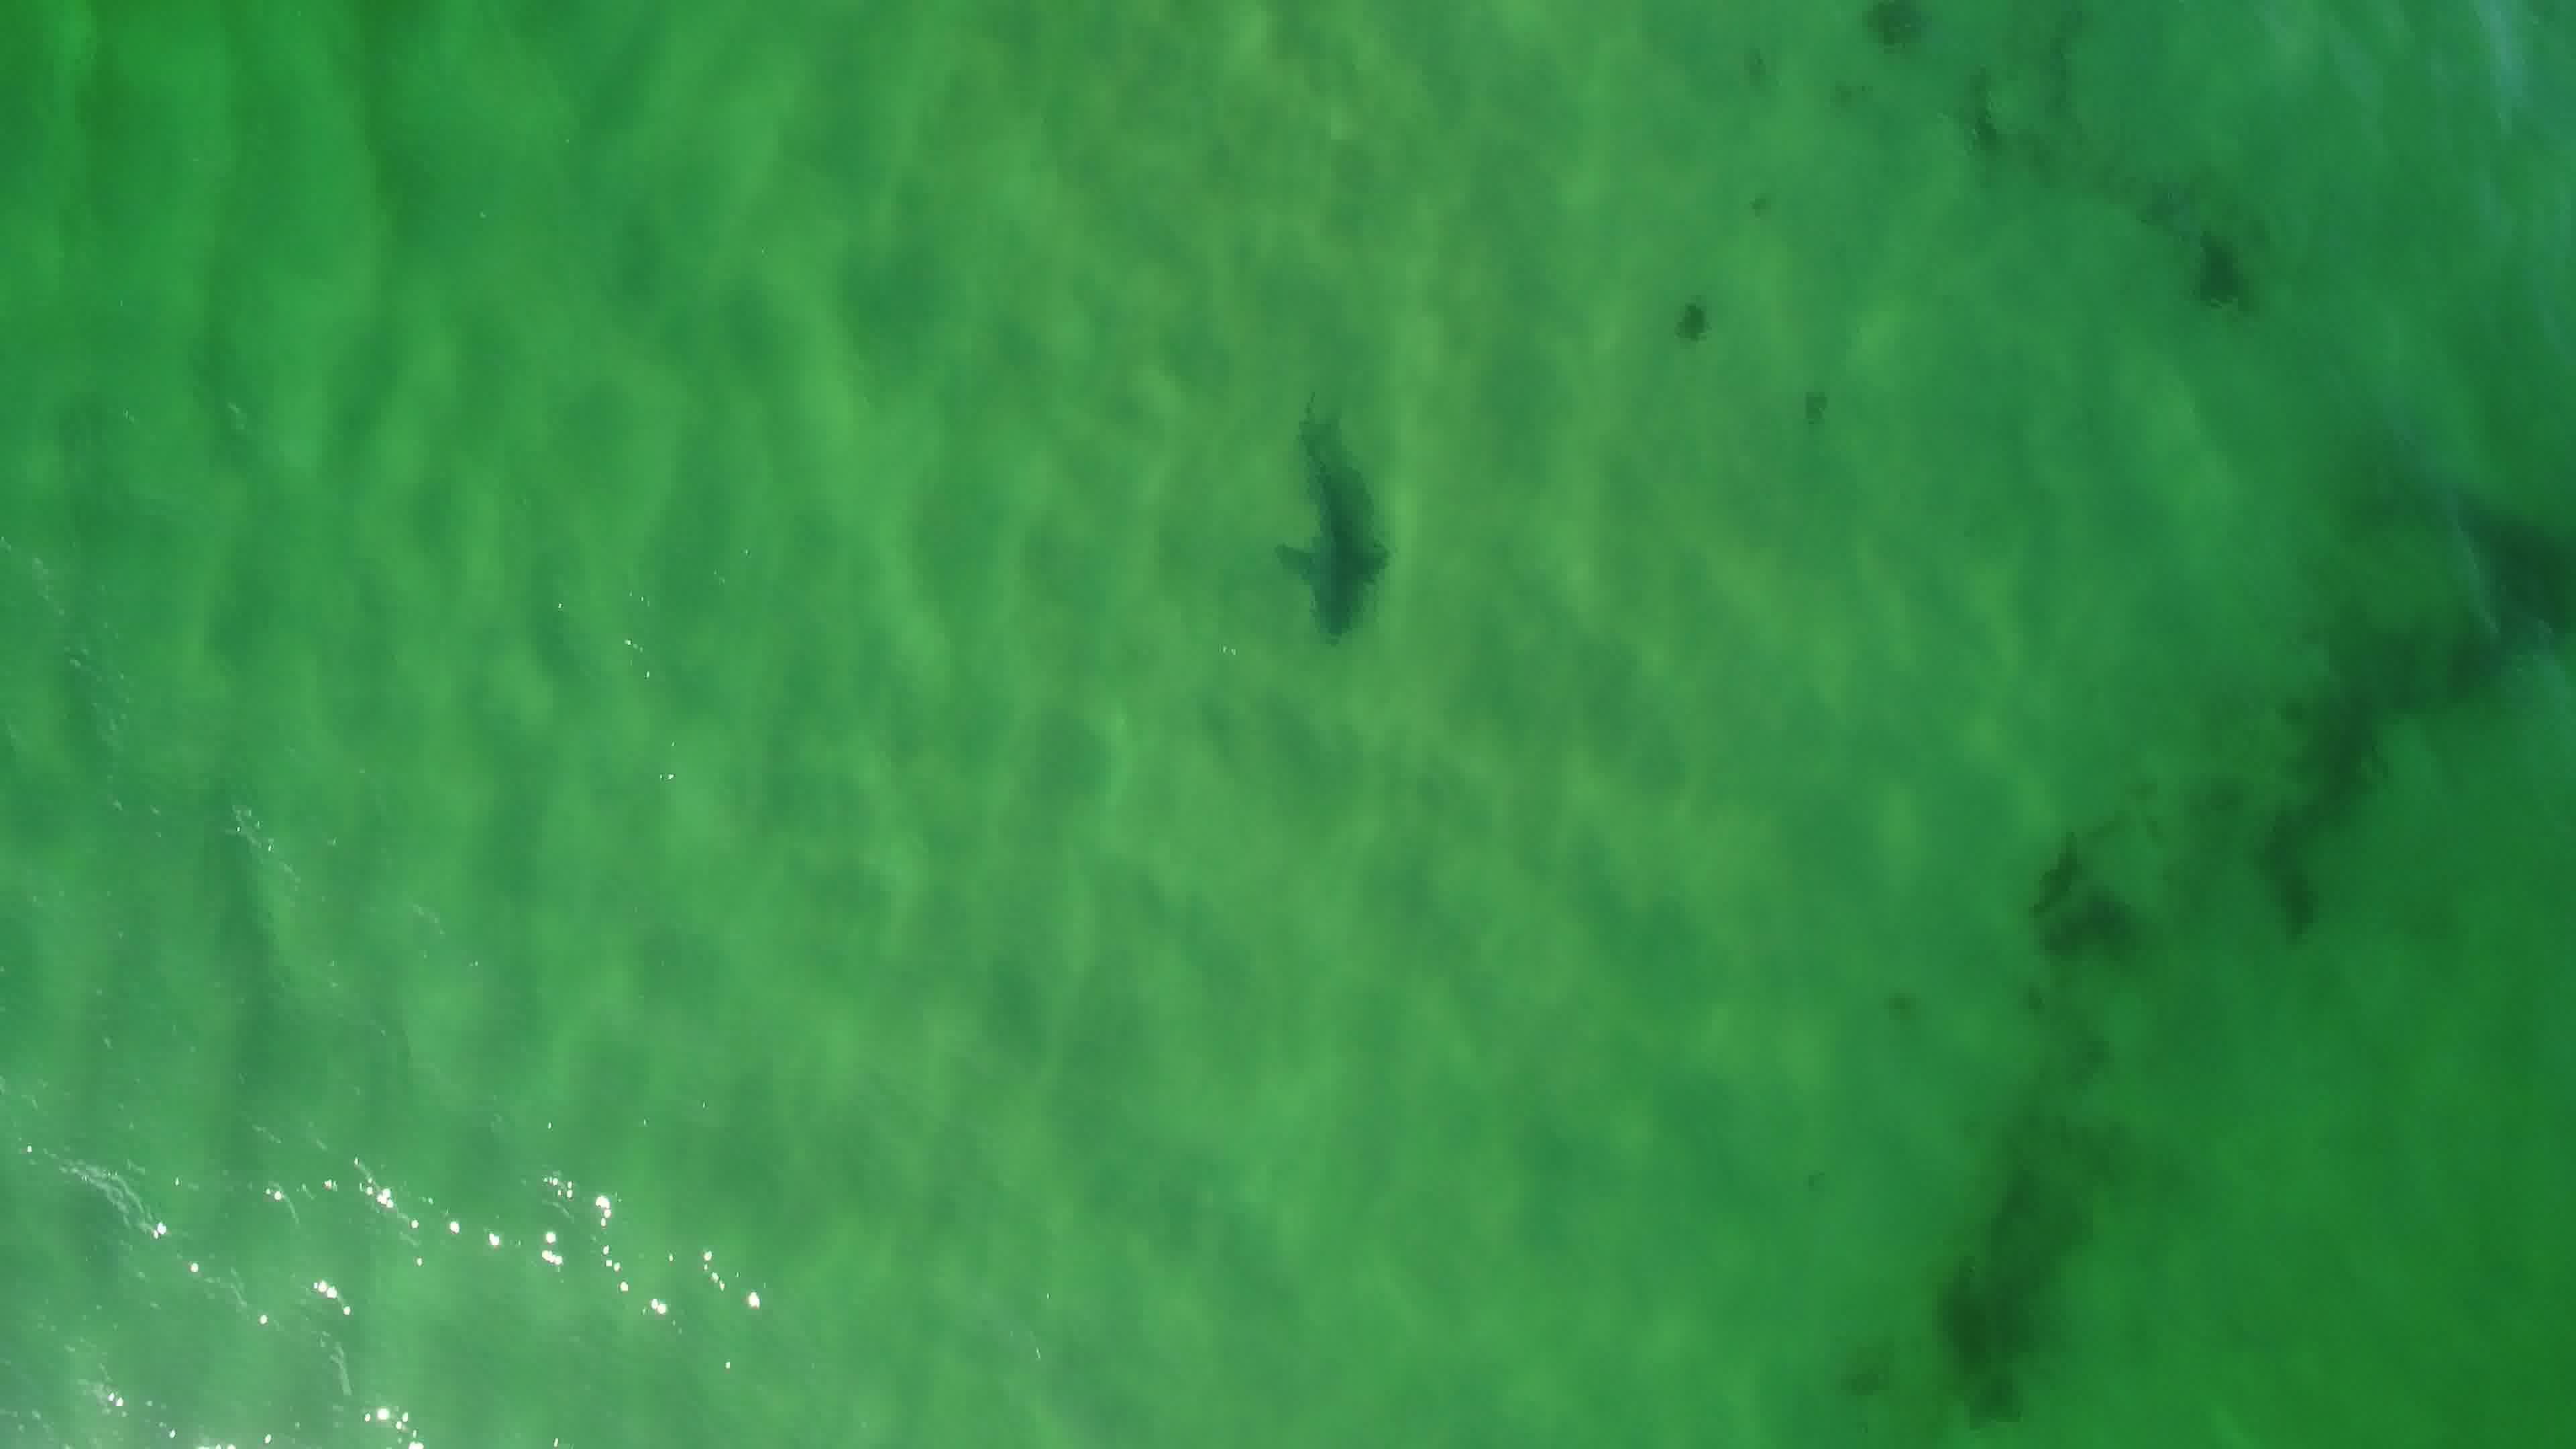shark: (1247, 384, 1398, 646)
